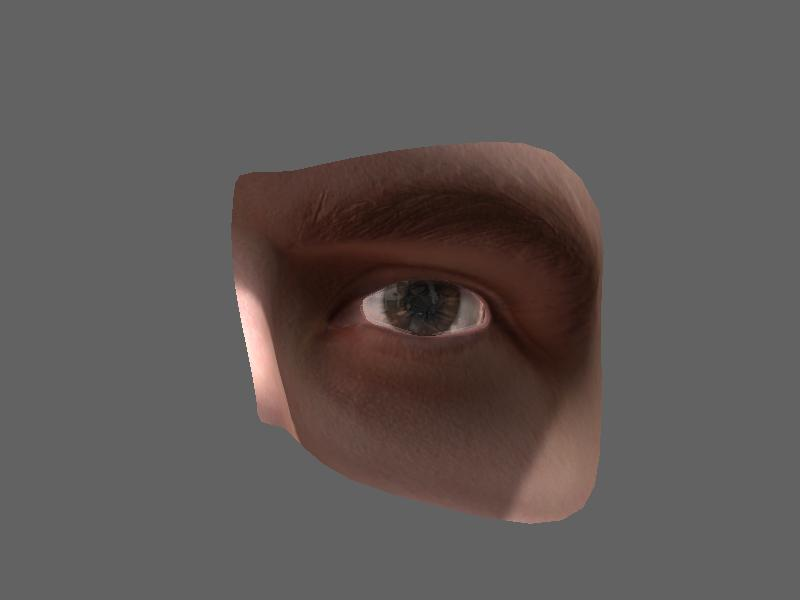iris: (381, 278, 467, 335)
